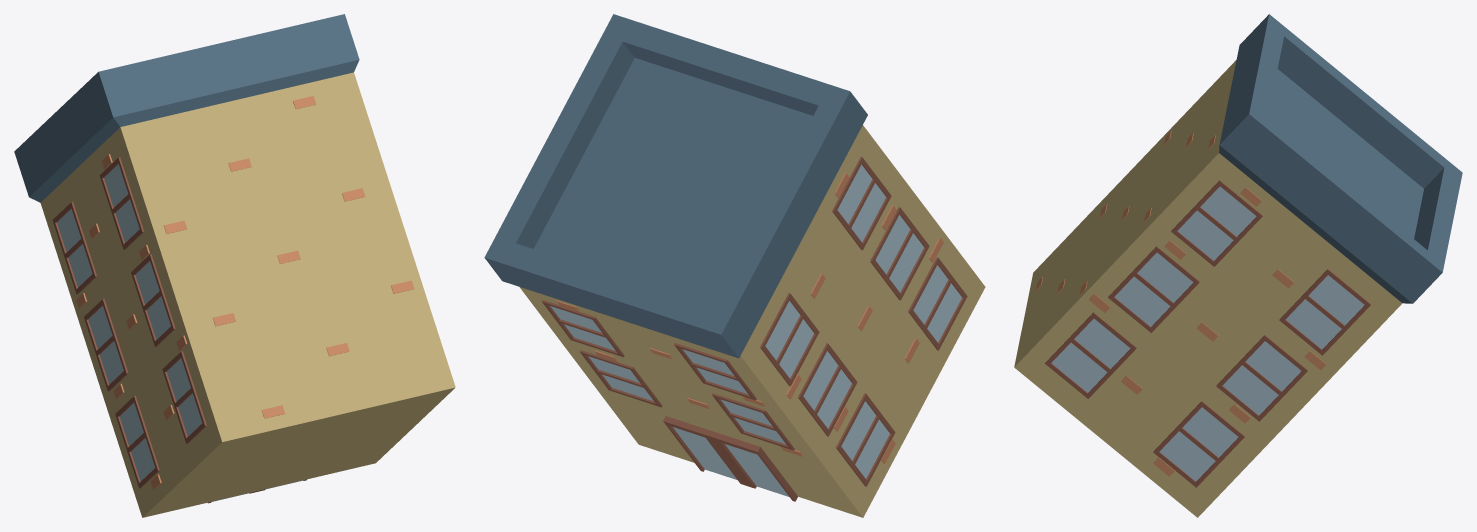
3 renders of one model, left to right at view 1: azimuth 30°, elevation 25°; view 2: azimuth 150°, elevation 25°; view 3: azimuth 270°, elevation 25°, orthographic. The views are drawn at different scales.
Visible parts, largest first — view 1: building-001; view 2: building-001; view 3: building-001.
Boxes of the visible parts, x1=… form: building-001: x1=14, y1=14, x2=455, y2=517; building-001: x1=484, y1=14, x2=985, y2=517; building-001: x1=1014, y1=14, x2=1462, y2=517.
Bounding box in the file's own units: 2.81 × 4.58 × 4.54.
Materials: 1 (1 with a texture image).
